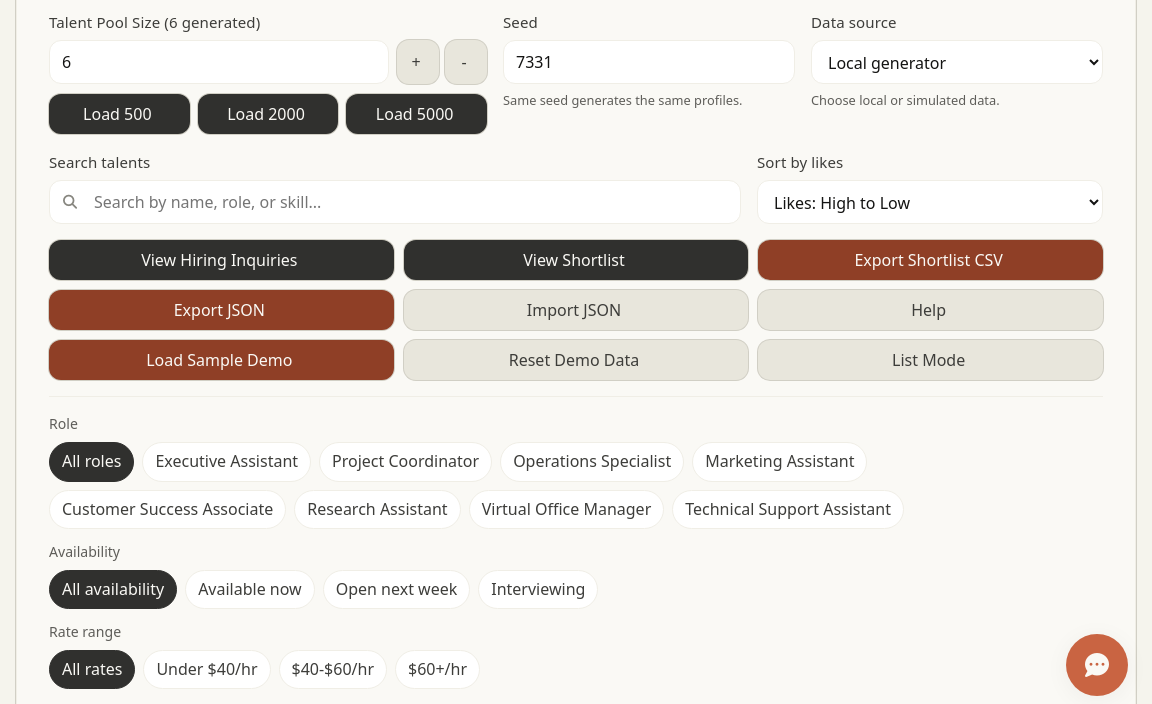
Test: App integration › does not show presenter checklist while demo controls remain functional
(page scrolled)
Click the button "Load Sample Demo".
click(221, 360)  # box [49, 340, 394, 380]
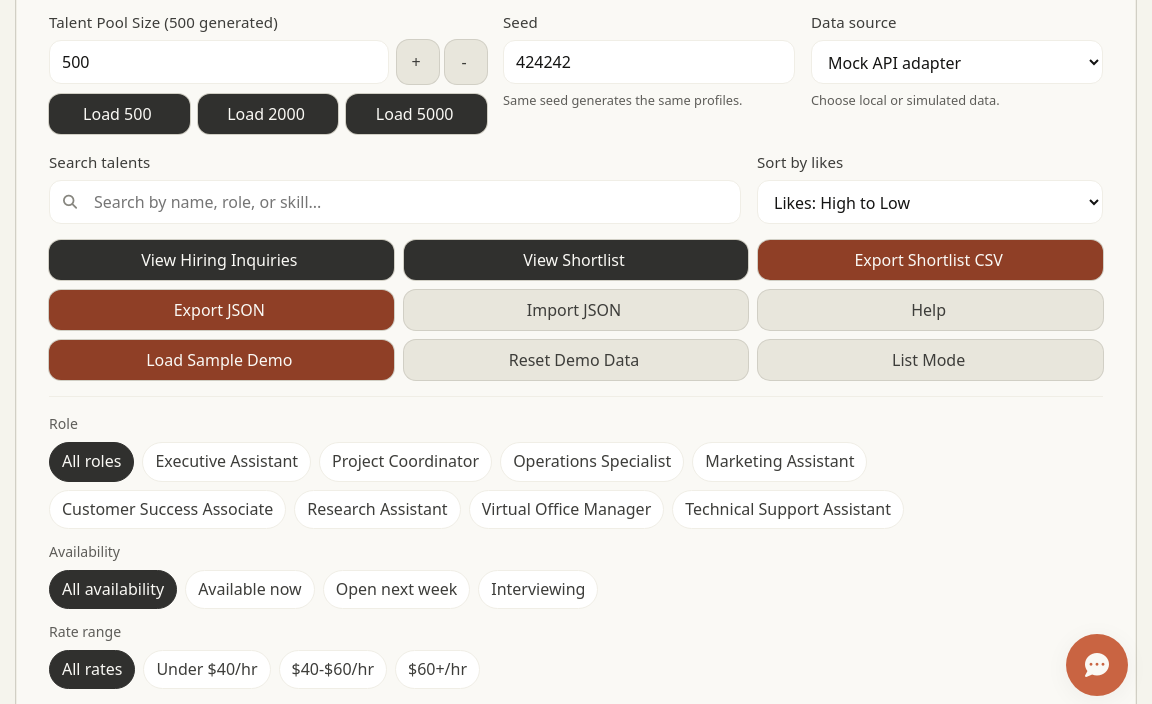
Check: the button "View Shortlist" is shown, box [404, 240, 748, 280]
Check: the text "Talent Pool Size (500 generated)" is shown, box [49, 12, 278, 32]
